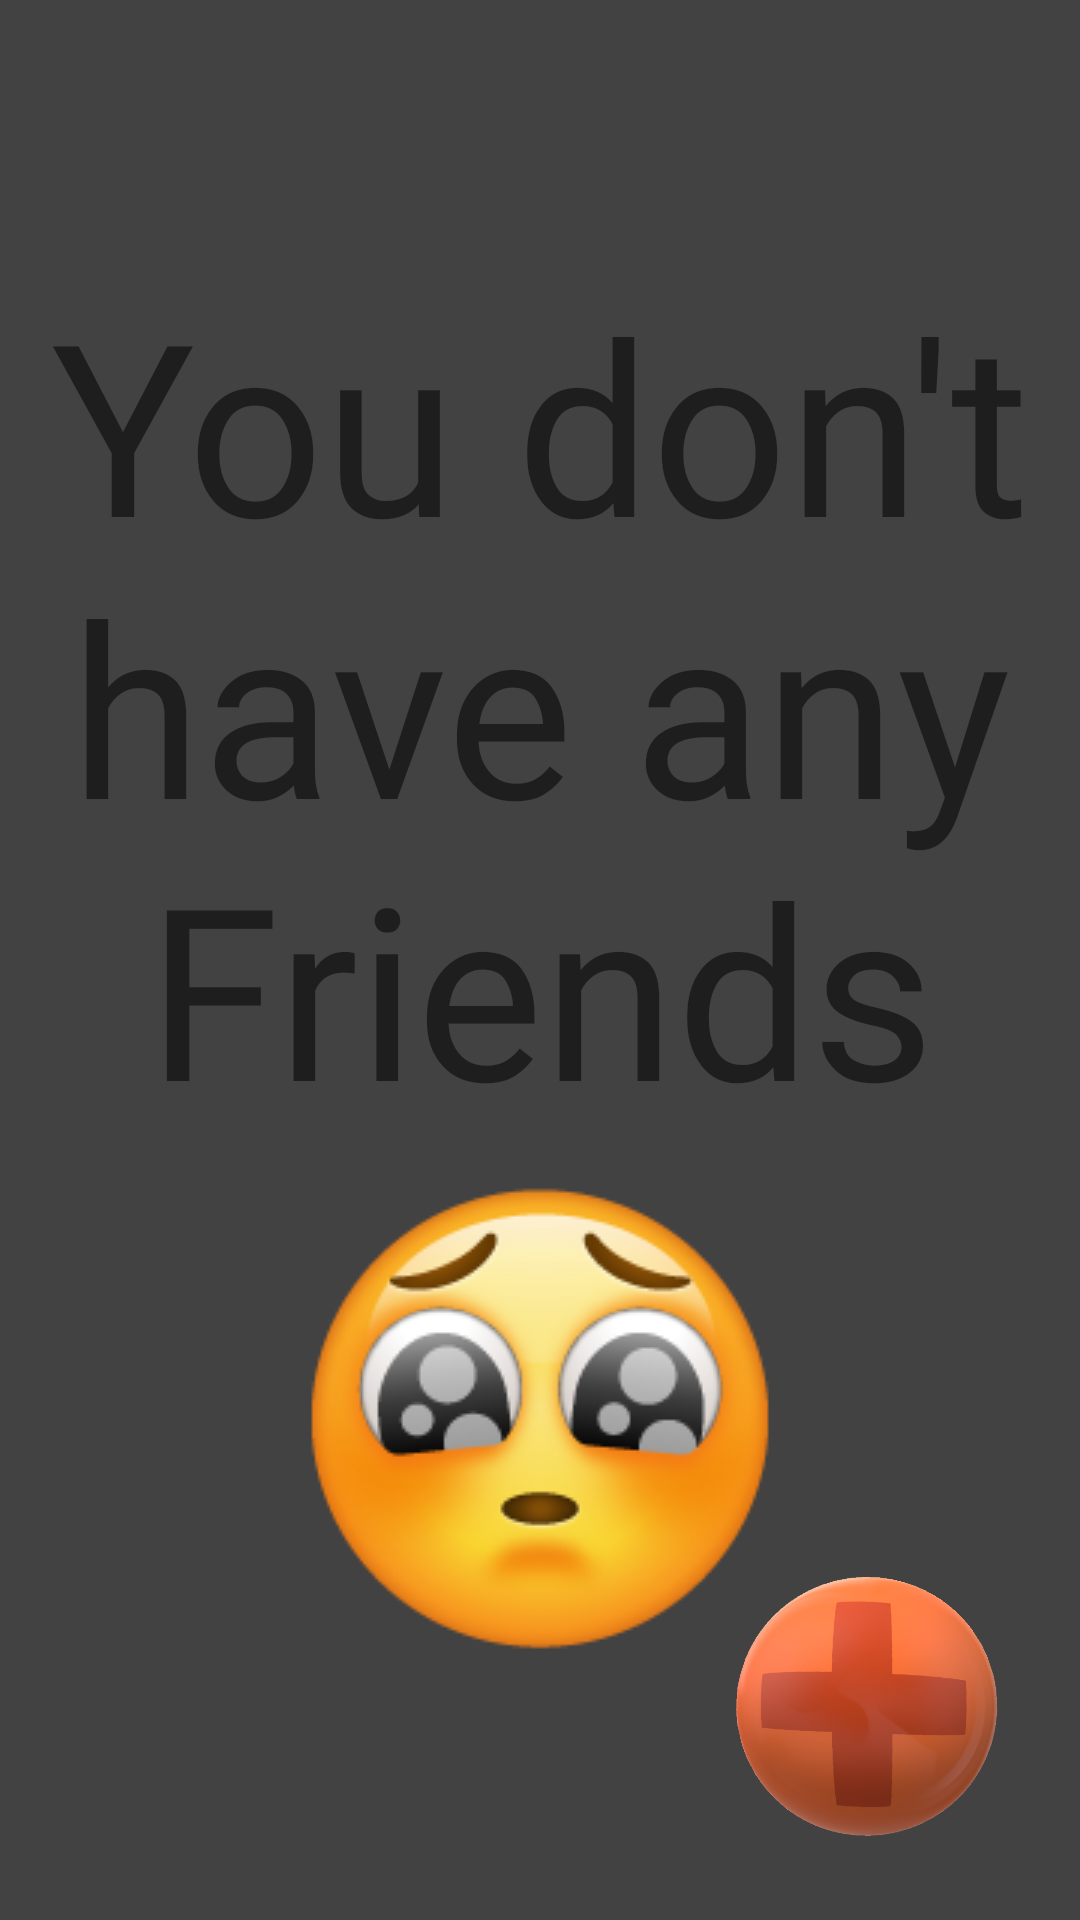

Icons on this 1080w x 1920h Android screen, each with the point to tap as point (x, y):
orangeaddpng: point (866, 1706)
